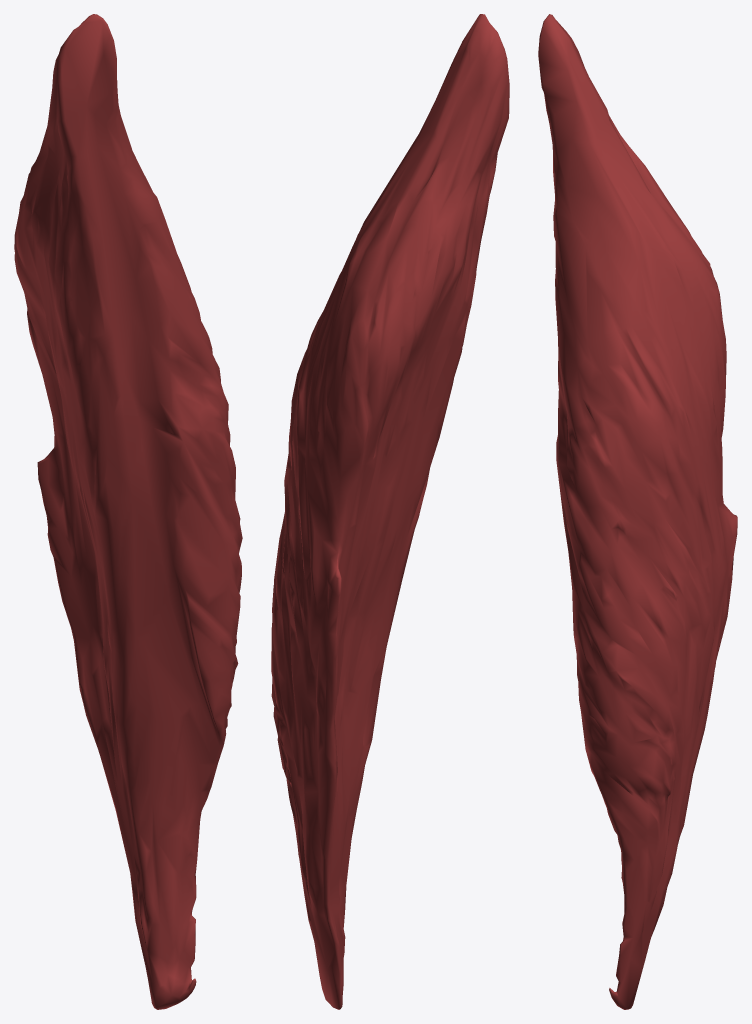
The model's file is lateral-head-of-triceps-brachii-l.glb.
The picture shows the model from 3 angles, left to right: view 1: azimuth 30°, elevation 25°; view 2: azimuth 150°, elevation 25°; view 3: azimuth 270°, elevation 25°; orthographic projection. The views are drawn at different scales.
Visible parts, largest first — view 1: Lateral head of triceps brachii.l; view 2: Lateral head of triceps brachii.l; view 3: Lateral head of triceps brachii.l.
Part boxes in pixels (x1,y1,x2,y2): Lateral head of triceps brachii.l: (14, 14, 242, 1009); Lateral head of triceps brachii.l: (271, 14, 509, 1009); Lateral head of triceps brachii.l: (538, 14, 737, 1009).
Size of the model in its own units: 0.0562 by 0.2648 by 0.0507.
